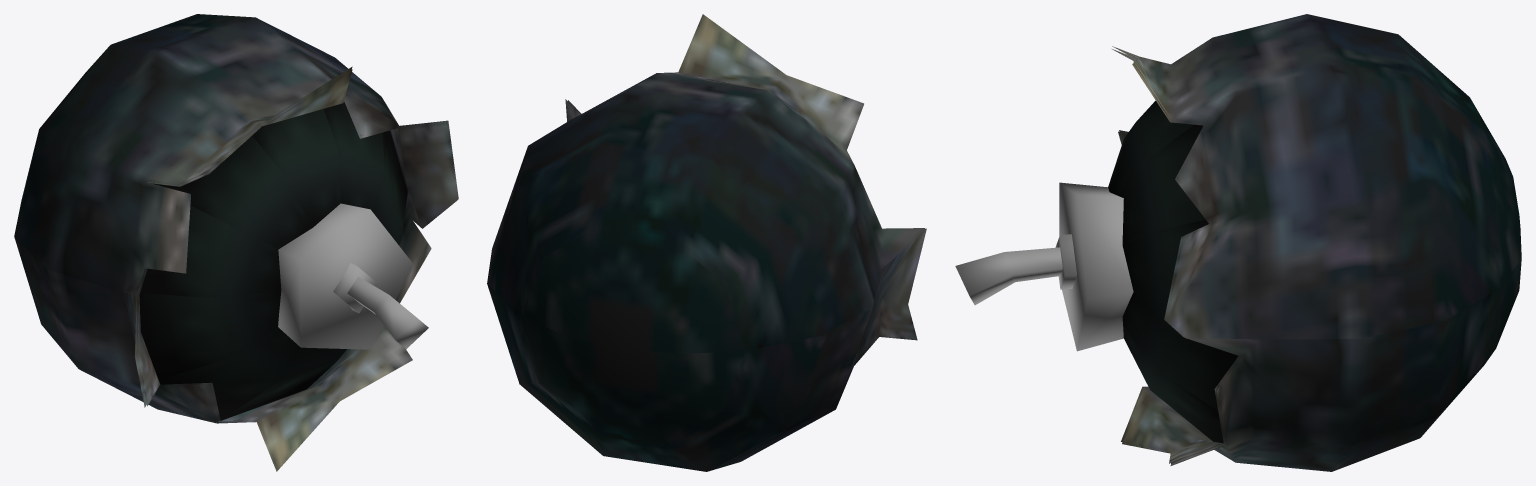
The model's file is Bomb.DAE.
3 views of the same model, side by side, from view 1: azimuth 30°, elevation 25°; view 2: azimuth 150°, elevation 25°; view 3: azimuth 270°, elevation 25° (orthographic). The views are drawn at different scales.
Parts seen in each view (by area): view 1: rdmobj00, rdmobj01; view 2: rdmobj00; view 3: rdmobj00, rdmobj01.
Boxes of the visible parts, x1,y1,x2,y2 form: rdmobj00: (14, 14, 458, 471); rdmobj01: (278, 203, 428, 349); rdmobj00: (487, 14, 926, 471); rdmobj00: (1108, 14, 1521, 471); rdmobj01: (955, 182, 1133, 351).
Bounding box in the file's own units: 34 × 41.58 × 34.51.
